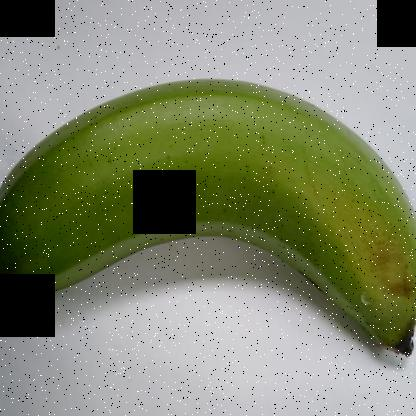freshunripe: (1, 68, 415, 381)
